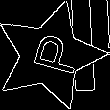P_W: (19, 31, 81, 81)
